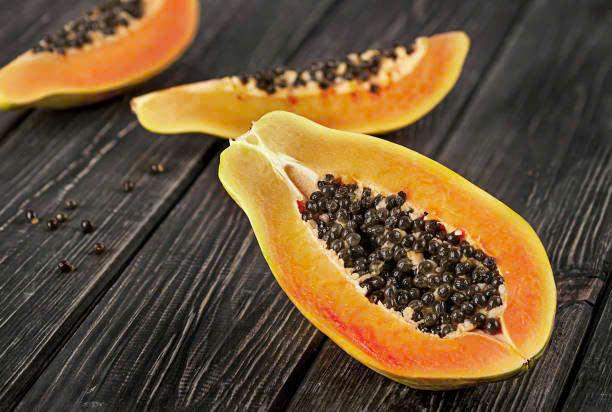papaya: (215, 109, 558, 383), (128, 26, 478, 136)
